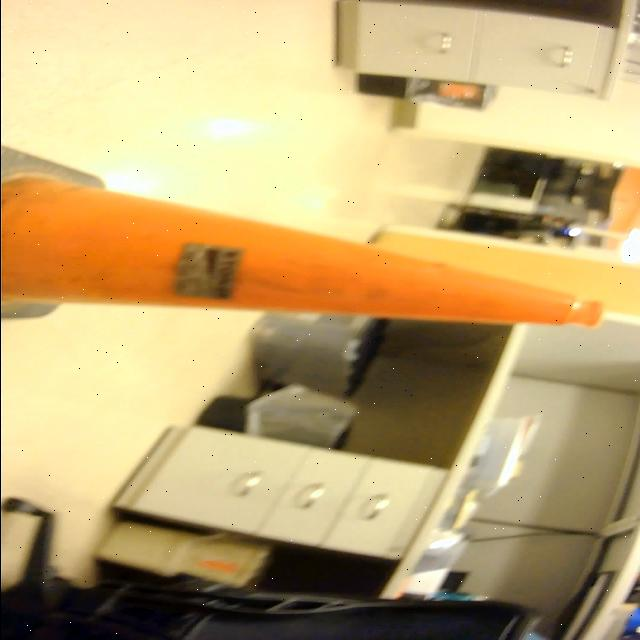traffic cone: (1, 139, 621, 333)
